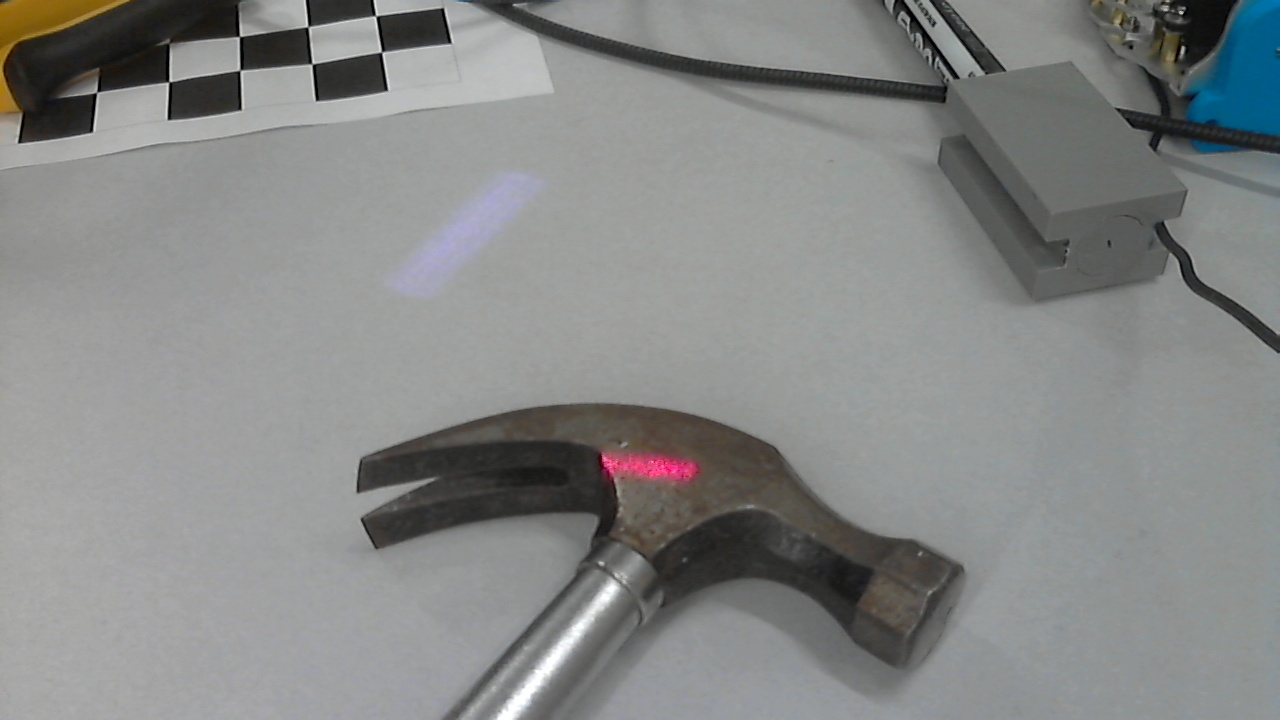Object claw hammer -Material metal - Pdfname 2LKzx9zgCNVB: (578, 425, 707, 512)
